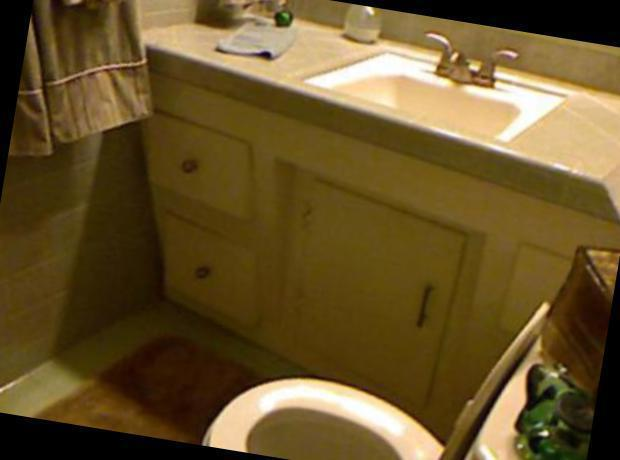Lavamanos: (271, 0, 588, 188)
Sanitario: (181, 248, 620, 460)
